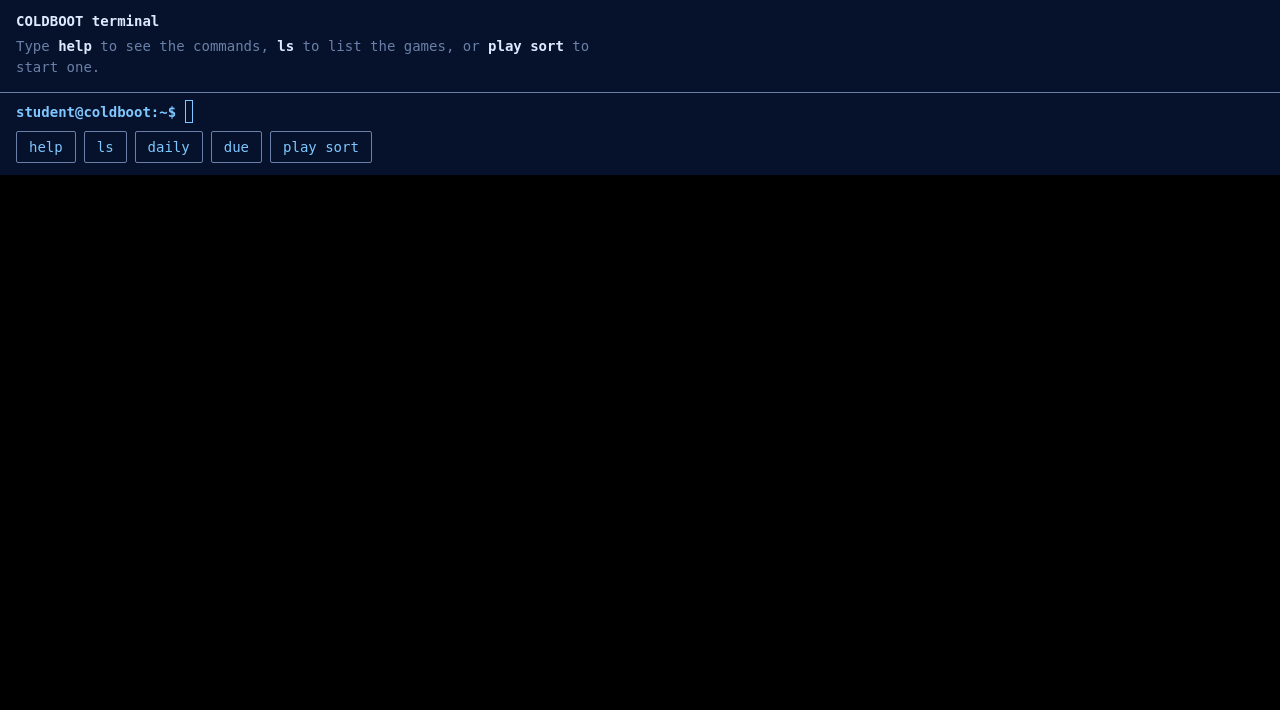
Test: G2 games in the terminal › draws the object description for an oop object question
Type "play oop" into the field labelled "student@coldboot:~$". click: (724, 112)
box: [185,100,1264,123]
Then press Enter
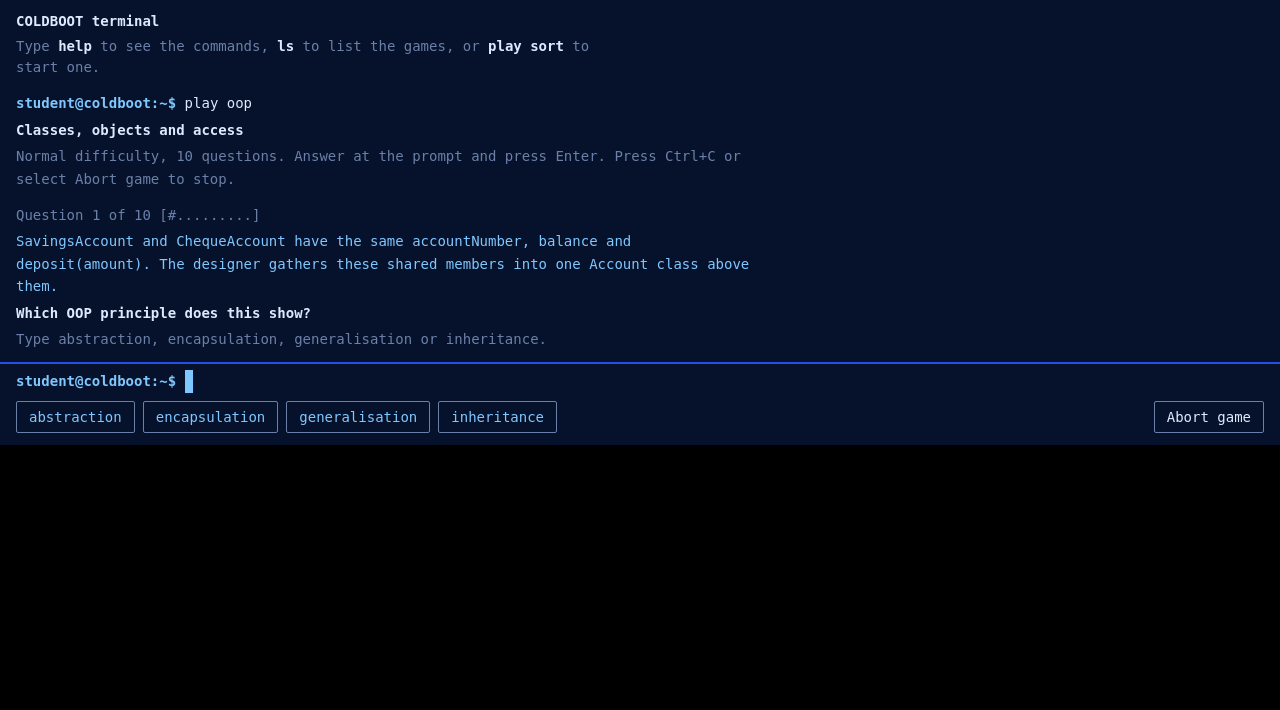
Type "Generalisation" into the field labelled "student@coldboot:~$". click: (724, 382)
box: [185,370,1264,393]
Then press Enter
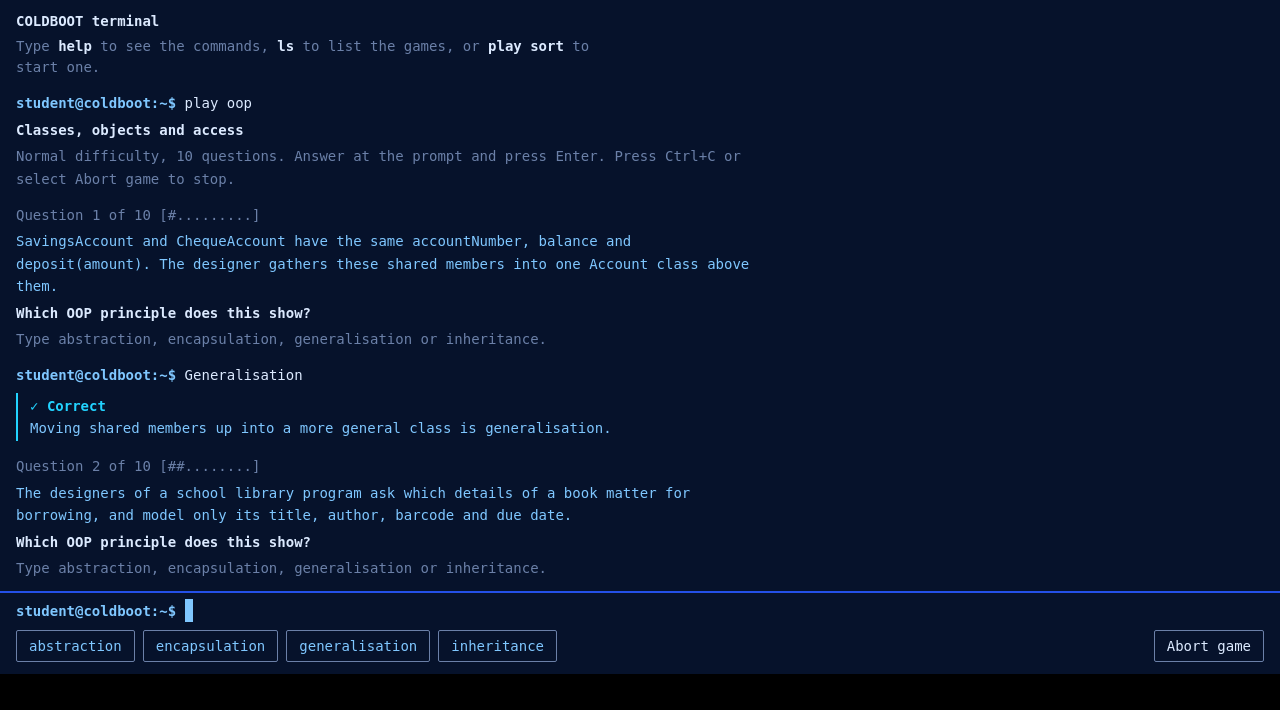
Type "Abstraction" into the field labelled "student@coldboot:~$". click: (724, 611)
box: [185,599,1264,622]
Then press Enter
(page scrolled)
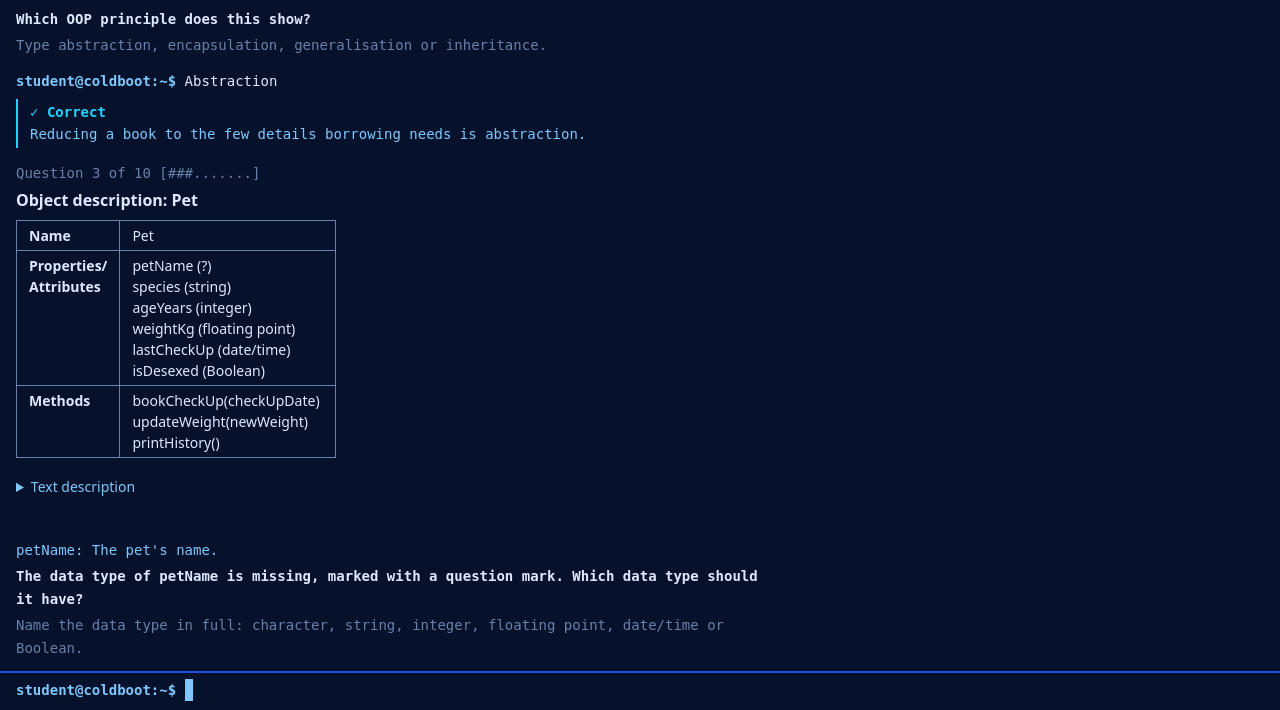
Expected: the table is shown, [16,220,336,458]
Expected: the table shows "?", [132,256,212,275]
